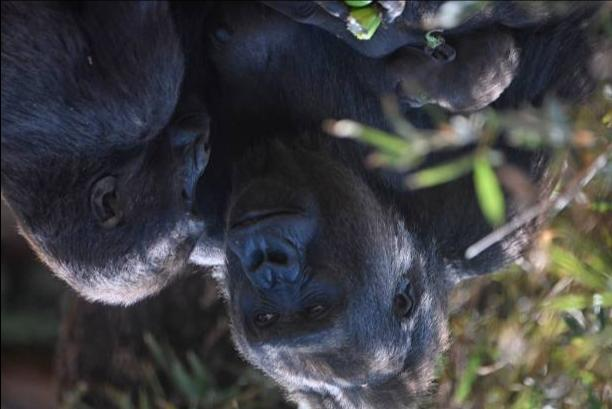gorille_Autres: (0, 2, 529, 409)
